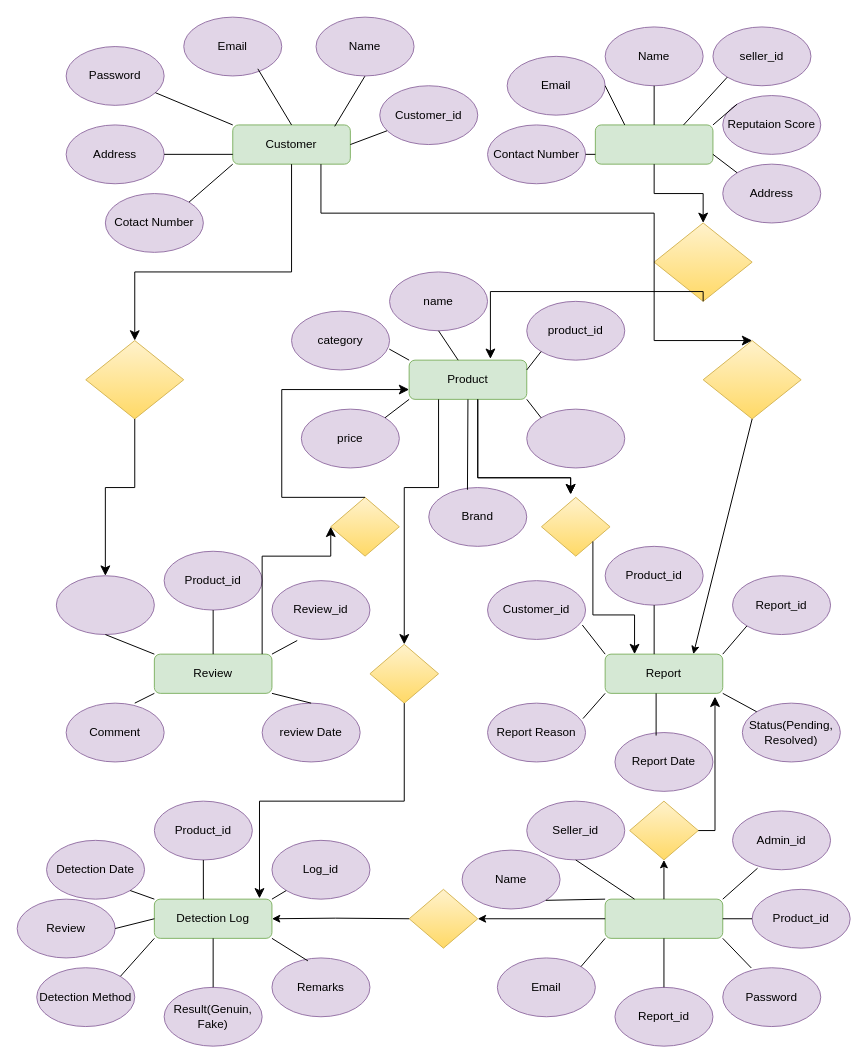
This 867x1063 diagram has some shape labels left out. The shapes that lost their labels are listed below. From the top down, each one's centre as x and y in pixels, then its label:
the point at 653,144: Seller
the point at 702,261: Sells
the point at 134,379: Writes
the point at 751,379: Submits
the point at 575,438: description
the point at 364,526: For
the point at 575,526: is reported
the point at 104,605: Rating
the point at 404,673: Logged in
the point at 663,830: Manages
the point at 443,918: Views
the point at 663,918: Admin
